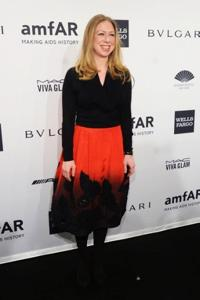S_cardigan sweater: (51, 61, 153, 172)
